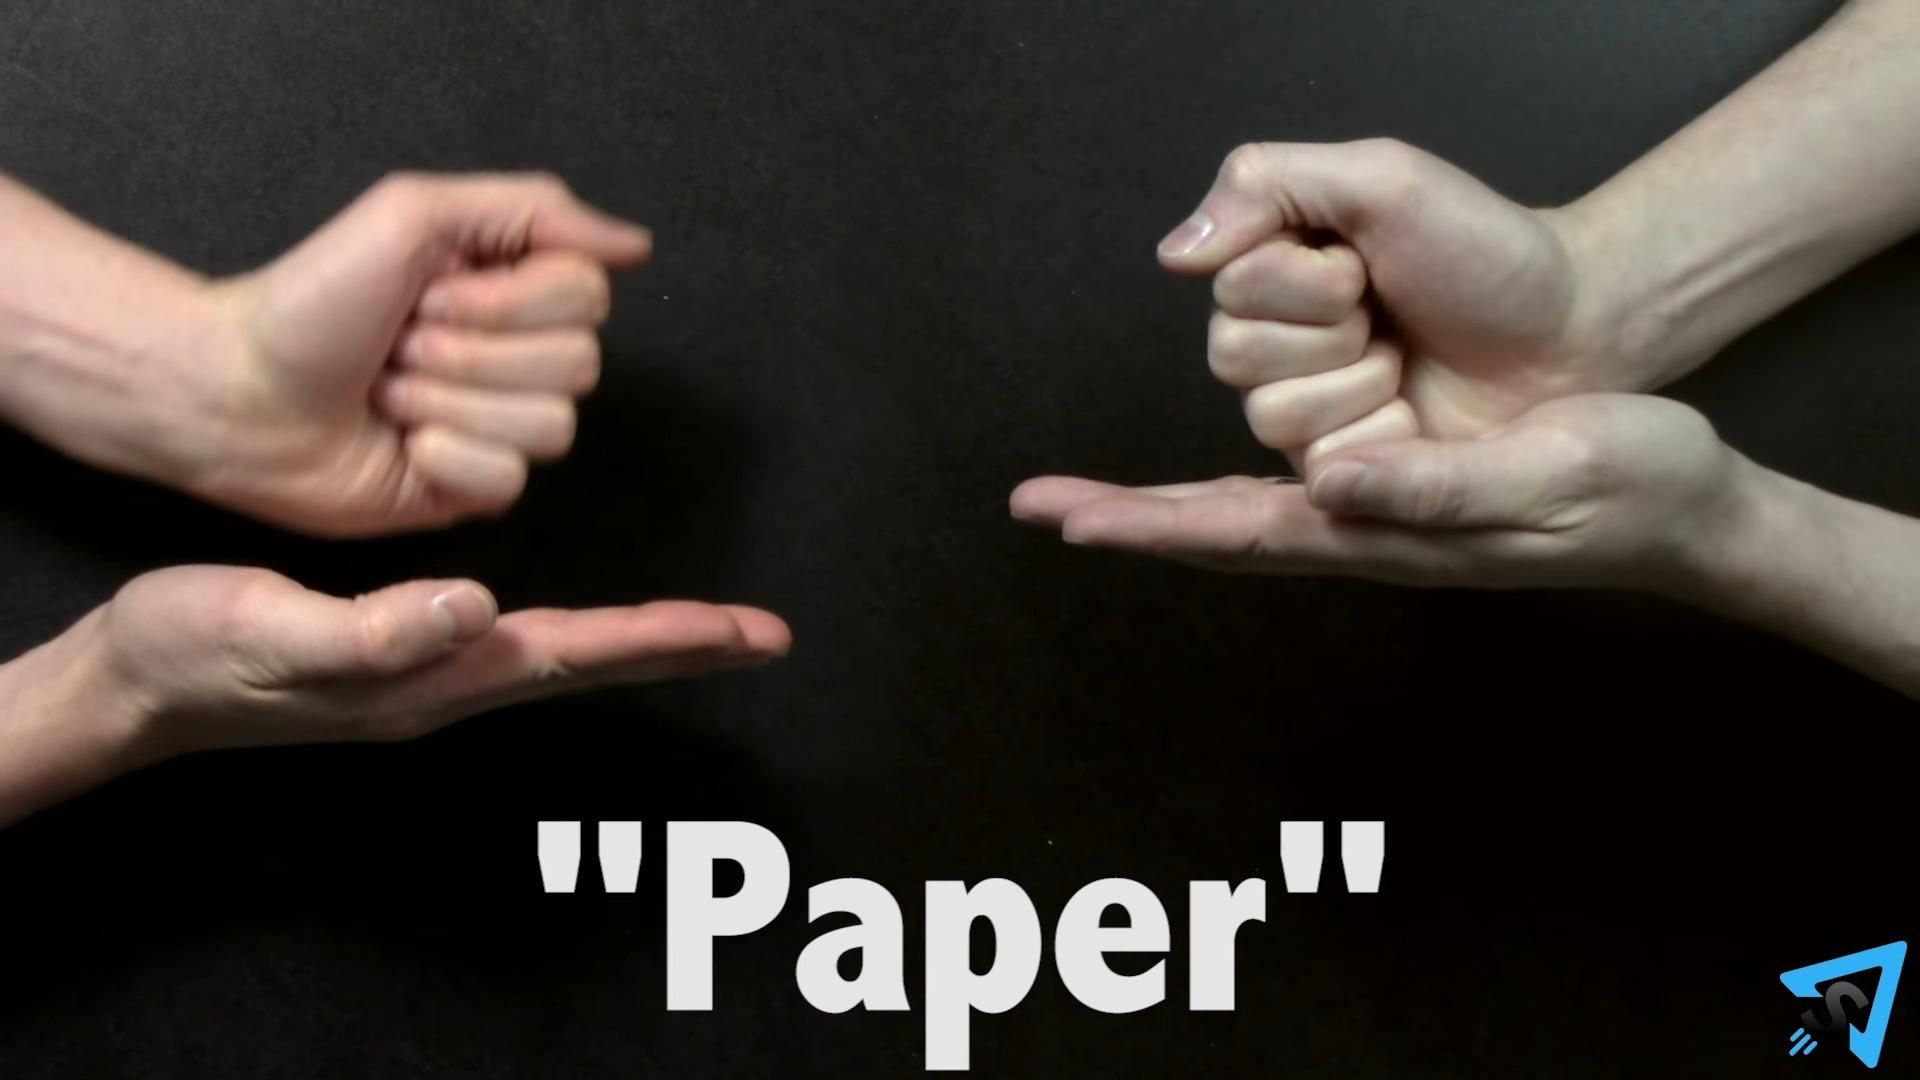Rock: (1162, 137, 1654, 476), (202, 170, 658, 533)
